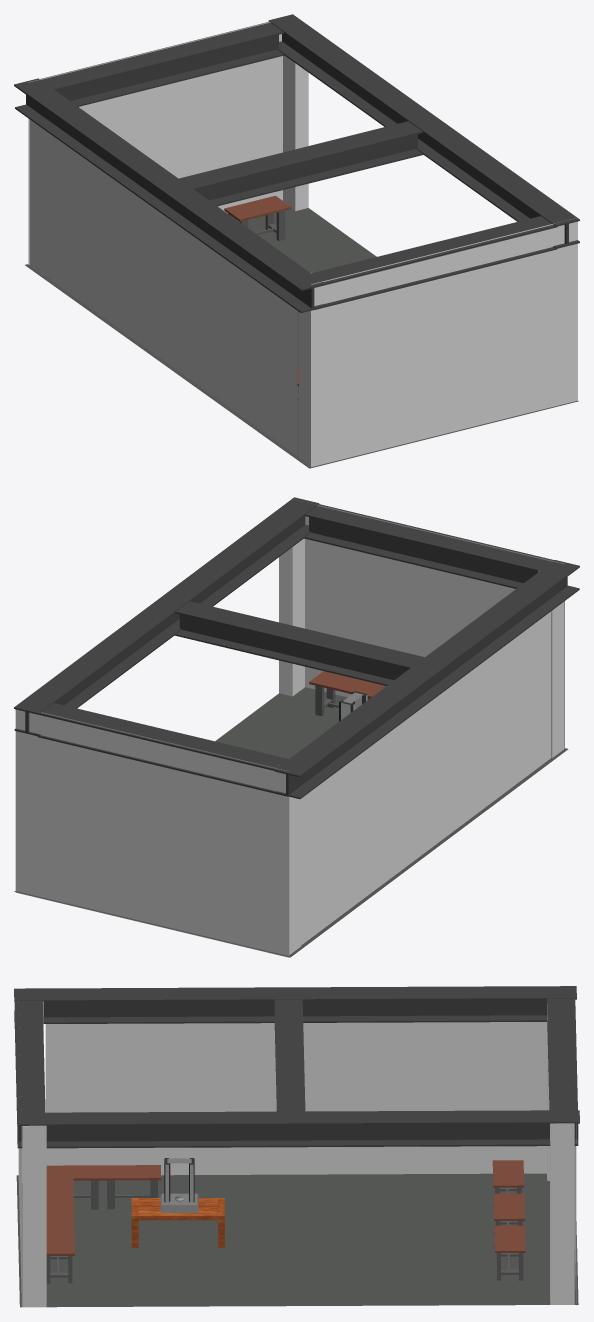
Rendered from laboratorio-compresion1.gltf.
The picture shows the model from 3 angles, top to bottom: view 1: azimuth 30°, elevation 25°; view 2: azimuth 150°, elevation 25°; view 3: azimuth 270°, elevation 25°; orthographic projection.
Visible parts, largest first — view 1: Vigas_Amarre, ParedFondo, ParedIzquierda.009, ParedDerecha, Piso, Columna4, Colimna3, Columna2, Mesa.Lab3; view 2: ParedDerecha, Vigas_Amarre, ParedIzquierda.009, ParedFondo, Piso, Columna1, Columna2, Colimna3, mesa5; view 3: Piso, ParedIzquierda.009, Vigas_Amarre, Columna1, Columna4, mesa_compresion, mesa1, Mesa.Lab3, mesa5, mesa2, Mesa.Lab1, Mesa.Lab2 (+4 smaller).
Part boxes in pixels (left/top/right/bottom): Vigas_Amarre: left=14, top=14, right=579, bottom=312; ParedFondo: left=311, top=217, right=577, bottom=467; ParedIzquierda.009: left=41, top=128, right=297, bottom=455; ParedDerecha: left=28, top=22, right=282, bottom=264; Piso: left=25, top=208, right=578, bottom=468; Columna4: left=283, top=55, right=308, bottom=210; Colimna3: left=29, top=119, right=42, bottom=274; Columna2: left=299, top=272, right=312, bottom=466; Mesa.Lab3: left=224, top=195, right=291, bottom=240; ParedDerecha: left=15, top=709, right=288, bottom=957; Vigas_Amarre: left=14, top=497, right=579, bottom=799; ParedIzquierda.009: left=301, top=611, right=550, bottom=945; ParedFondo: left=293, top=499, right=564, bottom=748; Piso: left=14, top=687, right=568, bottom=957; Columna1: left=279, top=538, right=304, bottom=696; Columna2: left=538, top=570, right=564, bottom=757; Colimna3: left=275, top=767, right=300, bottom=955; mesa5: left=309, top=671, right=375, bottom=716; Piso: left=16, top=1173, right=578, bottom=1307; ParedIzquierda.009: left=45, top=1022, right=546, bottom=1175; Vigas_Amarre: left=14, top=986, right=579, bottom=1148; Columna1: left=22, top=1125, right=46, bottom=1307; Columna4: left=550, top=1123, right=574, bottom=1304; mesa_compresion: left=131, top=1198, right=224, bottom=1247; mesa1: left=101, top=1165, right=161, bottom=1209; Mesa.Lab3: left=494, top=1225, right=525, bottom=1280; mesa5: left=46, top=1228, right=74, bottom=1283; mesa2: left=46, top=1165, right=101, bottom=1209; Mesa.Lab1: left=492, top=1160, right=524, bottom=1193; Mesa.Lab2: left=493, top=1193, right=524, bottom=1225.
Size of the model in its own units: 10.57 by 6.51 by 18.15.
Materials: 15 (1 with a texture image).
